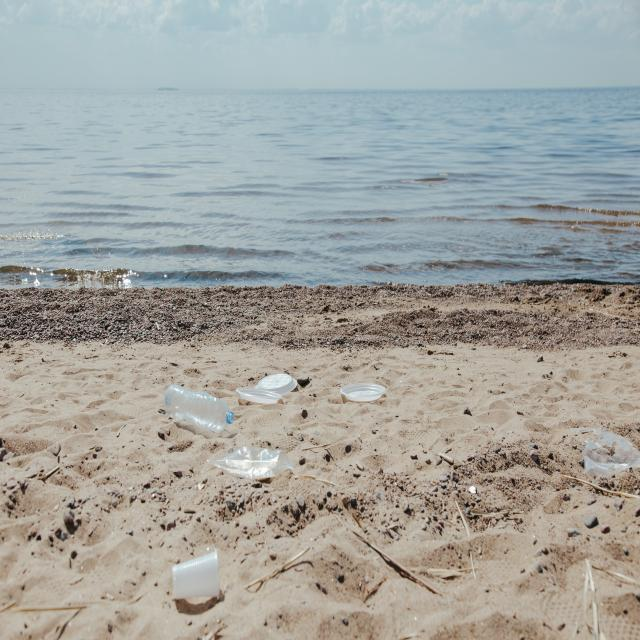plastic: (162, 380, 232, 432), (162, 555, 227, 600), (340, 380, 386, 404)
